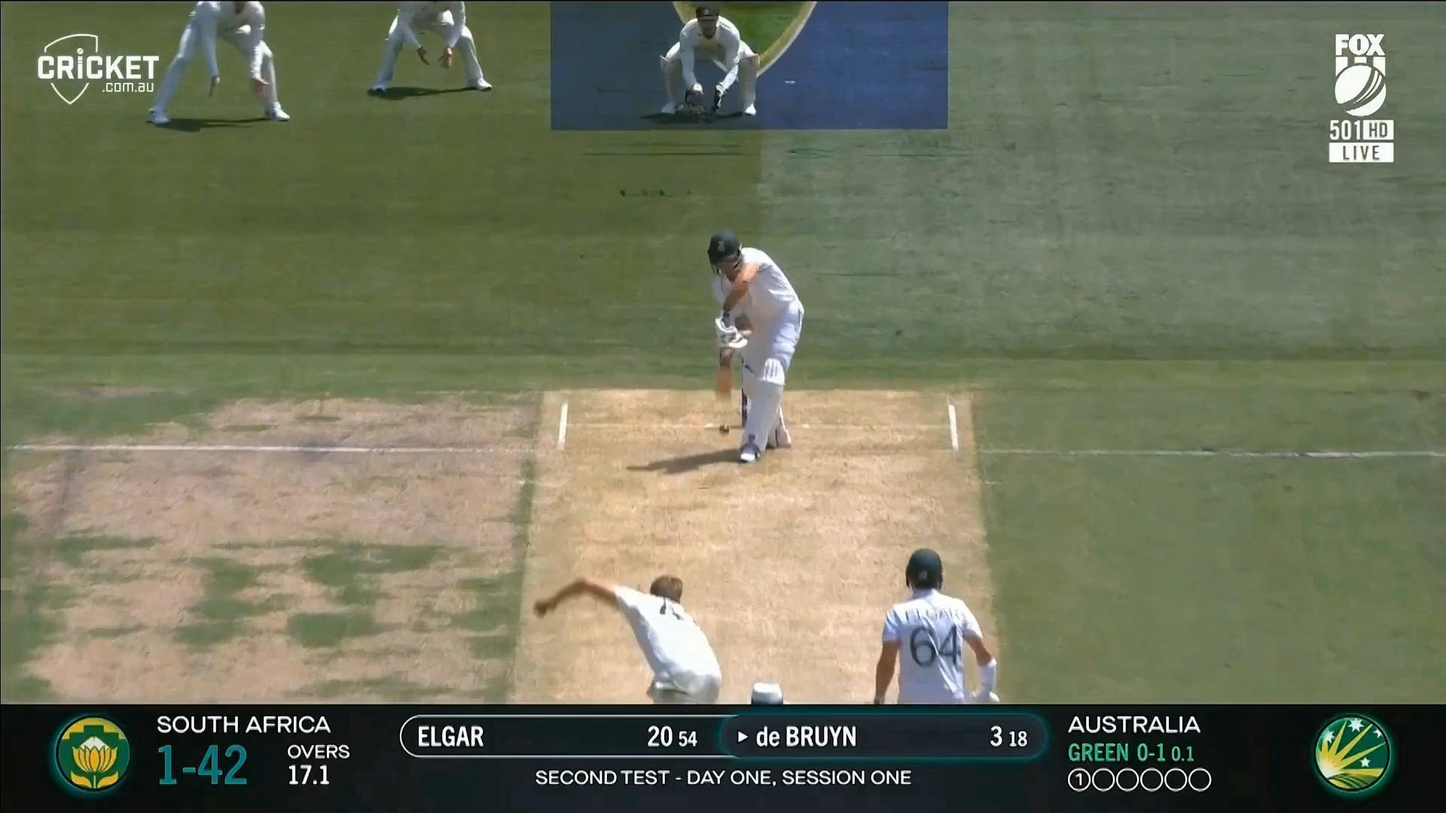BM 1: (707, 229, 805, 464)
BO: (534, 572, 725, 813)
